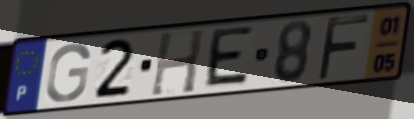2: (93, 37, 139, 101)
8: (272, 18, 315, 85)
E: (200, 24, 256, 90)
F: (314, 13, 371, 84)
G: (43, 41, 93, 104)
H: (148, 27, 207, 98)
